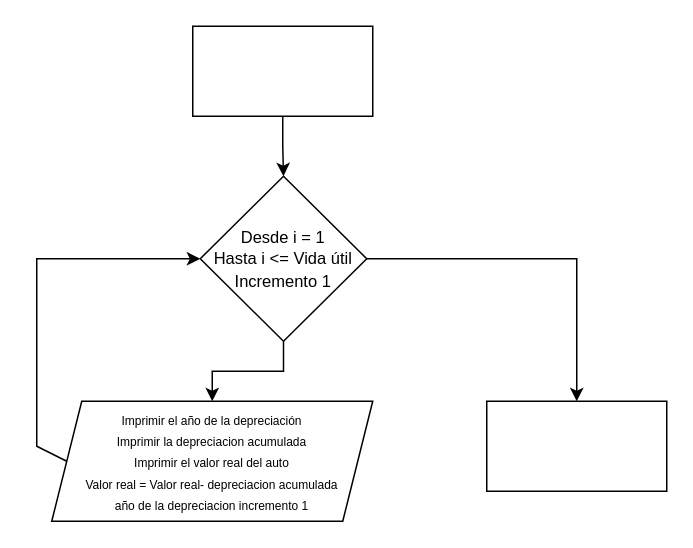
The diagram is 693 pixels wide and 548 high, and some of its shapes have lost their labels. The shapes that lost their labels are listed below. From the top down, each one's centre as x and y in pixels, then its label:
At (x=282, y=70): "Tabla de depreciación automóvil.".
At (x=576, y=445): "Fin".
